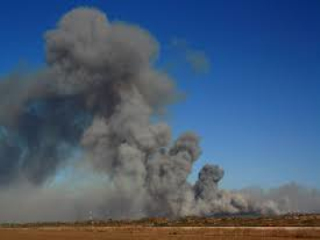smoke: (4, 9, 286, 220)
